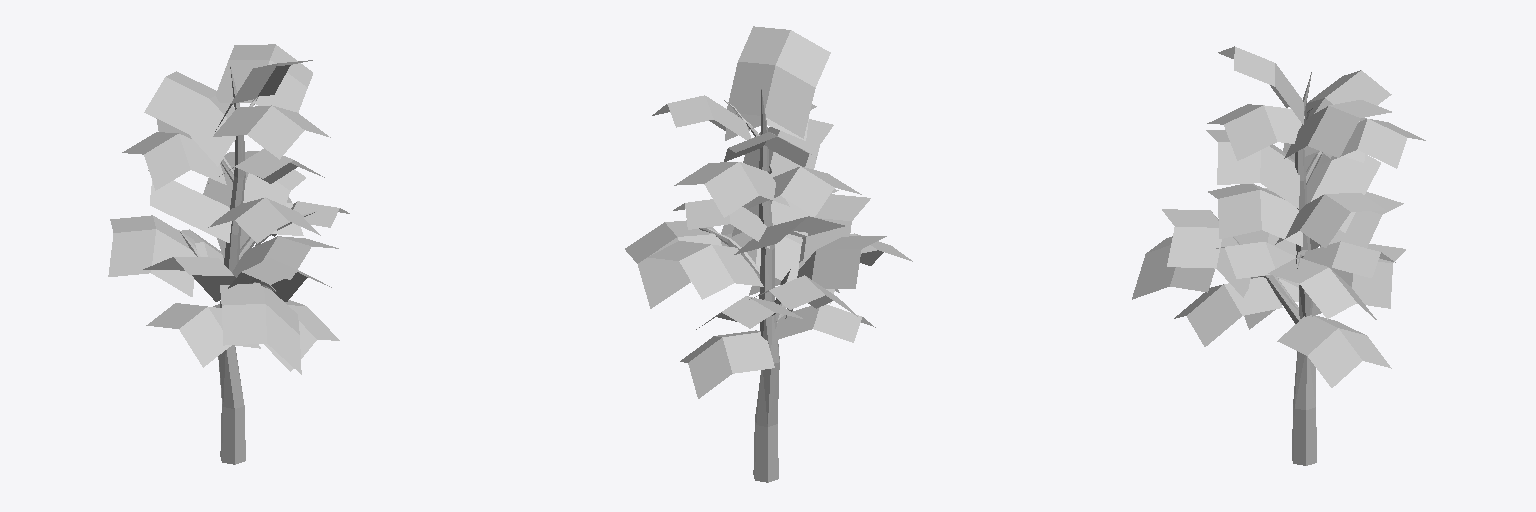
File: tree7.obj
The picture shows the model from 3 angles: view 1: azimuth 30°, elevation 25°; view 2: azimuth 150°, elevation 25°; view 3: azimuth 270°, elevation 25°; orthographic projection.
Visible parts, largest first — view 1: treeDark1:null_ group48; view 2: treeDark1:null_ group48; view 3: treeDark1:null_ group48.
Boxes of the visible parts, x1=… form: treeDark1:null_ group48: x1=108, y1=44, x2=349, y2=464; treeDark1:null_ group48: x1=625, y1=26, x2=912, y2=482; treeDark1:null_ group48: x1=1132, y1=46, x2=1425, y2=465.
Bounding box in the file's own units: 44.4 × 74.11 × 47.63.